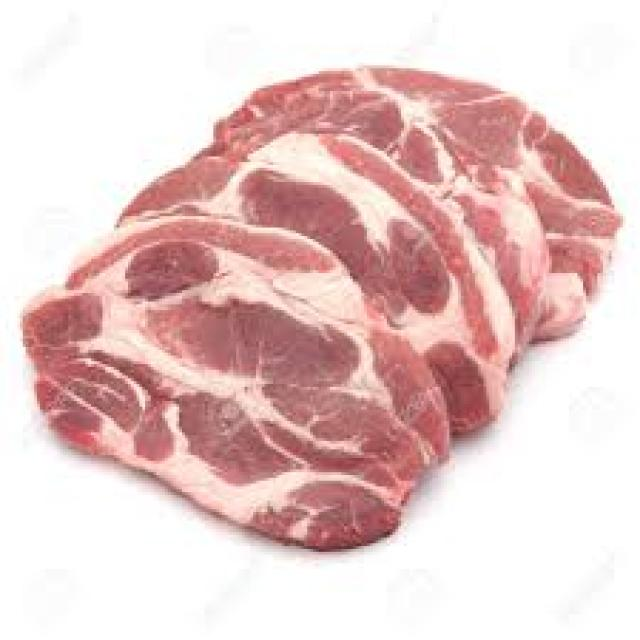Pork: (24, 68, 620, 549)
